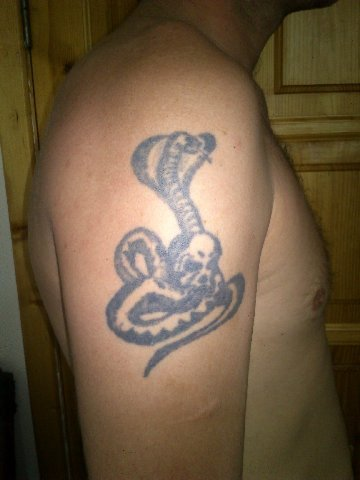tatu7_zmeya: (85, 105, 248, 375)
